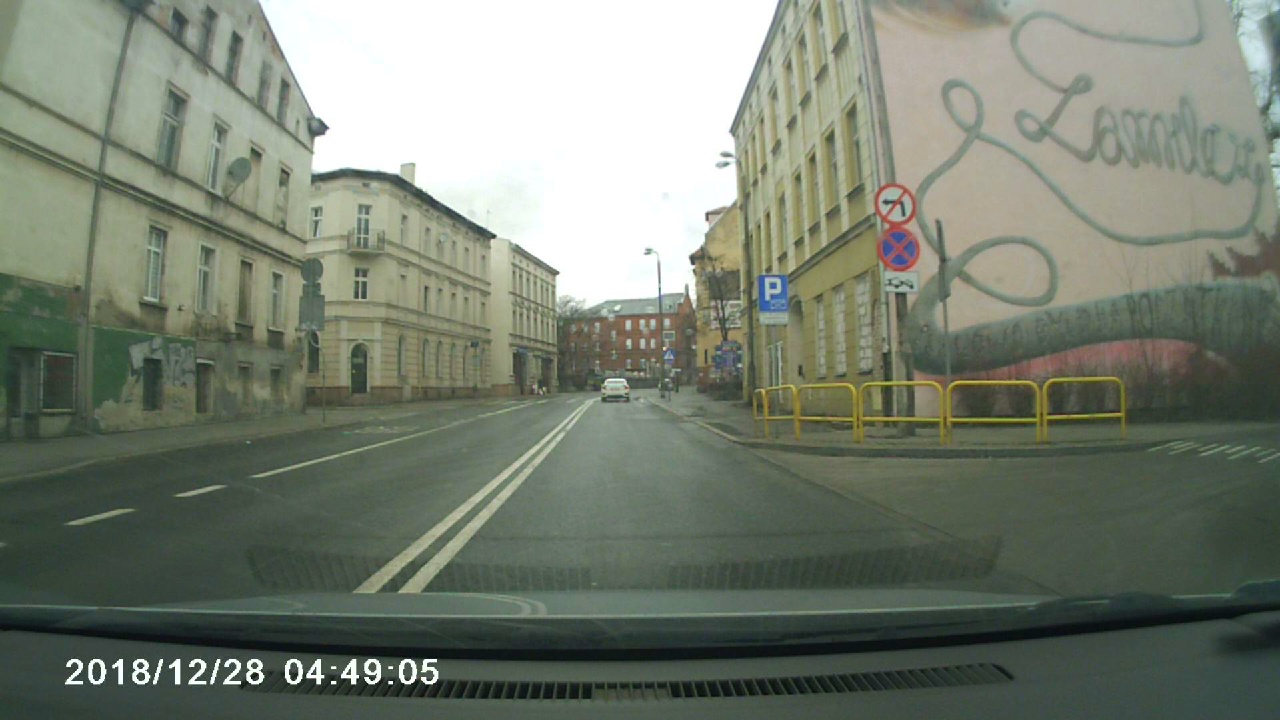B21: (874, 183, 918, 223)
B35: (875, 226, 920, 270)
D18: (755, 272, 793, 311)
